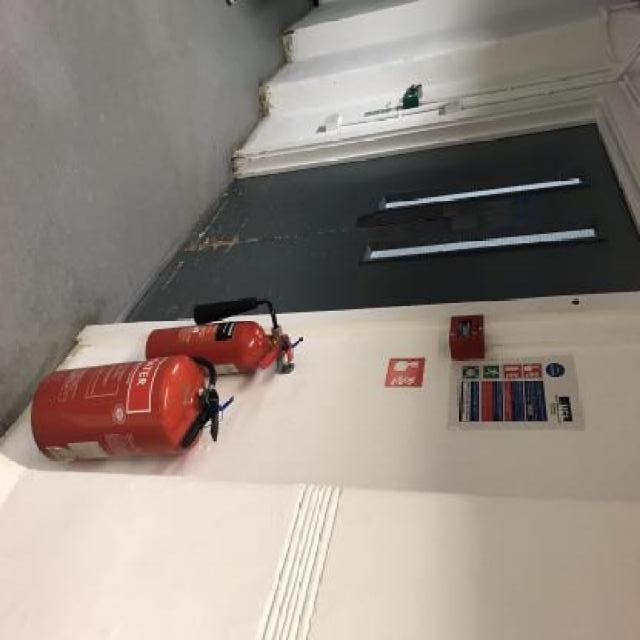fire extinguisher: (30, 354, 221, 463), (145, 296, 295, 381)
